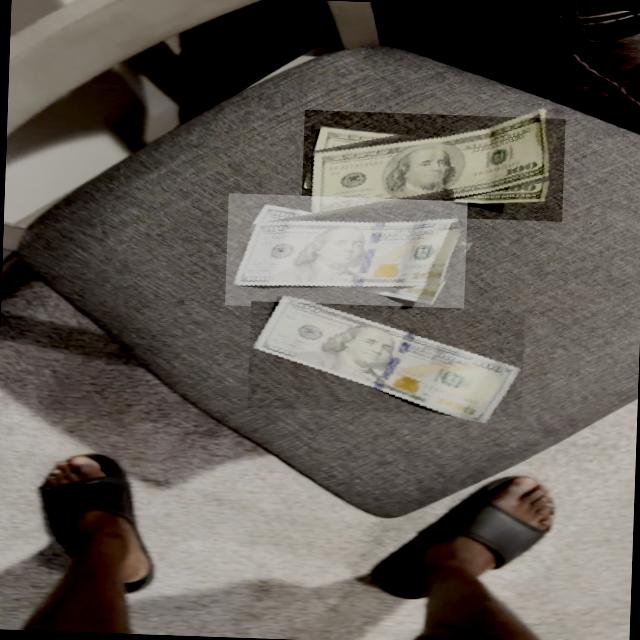hundred: (247, 301, 524, 418), (301, 110, 565, 222), (225, 193, 468, 314)
